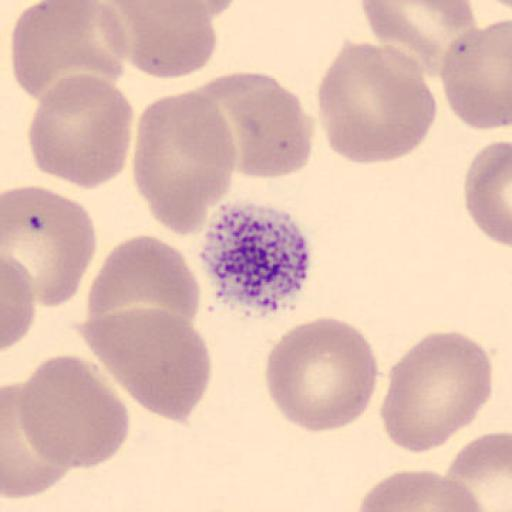Platelet: (198, 200, 317, 319)
RBC: (130, 85, 238, 238), (316, 39, 439, 167), (84, 306, 213, 426), (380, 331, 495, 455), (263, 315, 380, 435), (189, 70, 316, 180), (18, 354, 132, 470), (8, 0, 130, 107), (26, 73, 134, 191), (86, 233, 203, 341), (3, 183, 98, 309), (101, 0, 222, 80), (360, 0, 479, 72), (2, 384, 75, 500), (439, 19, 512, 131), (353, 468, 488, 512), (443, 430, 512, 511), (463, 138, 512, 247), (2, 252, 36, 352), (176, 0, 240, 20)
